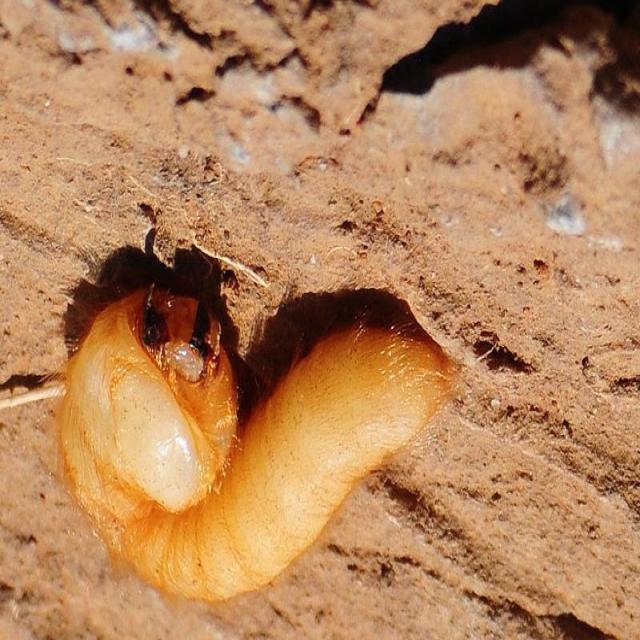grub: (63, 232, 447, 606)
